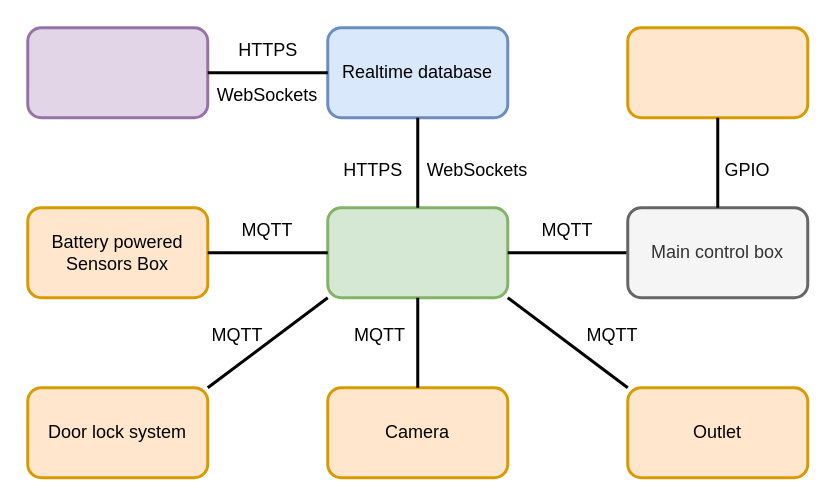
This 834x504 diagram has some shape labels left out. Each missing label, with the centre of its shape:
Hub: (x=417, y=252)
Mobile app: (x=117, y=72)
Sensors Box: (x=717, y=72)
